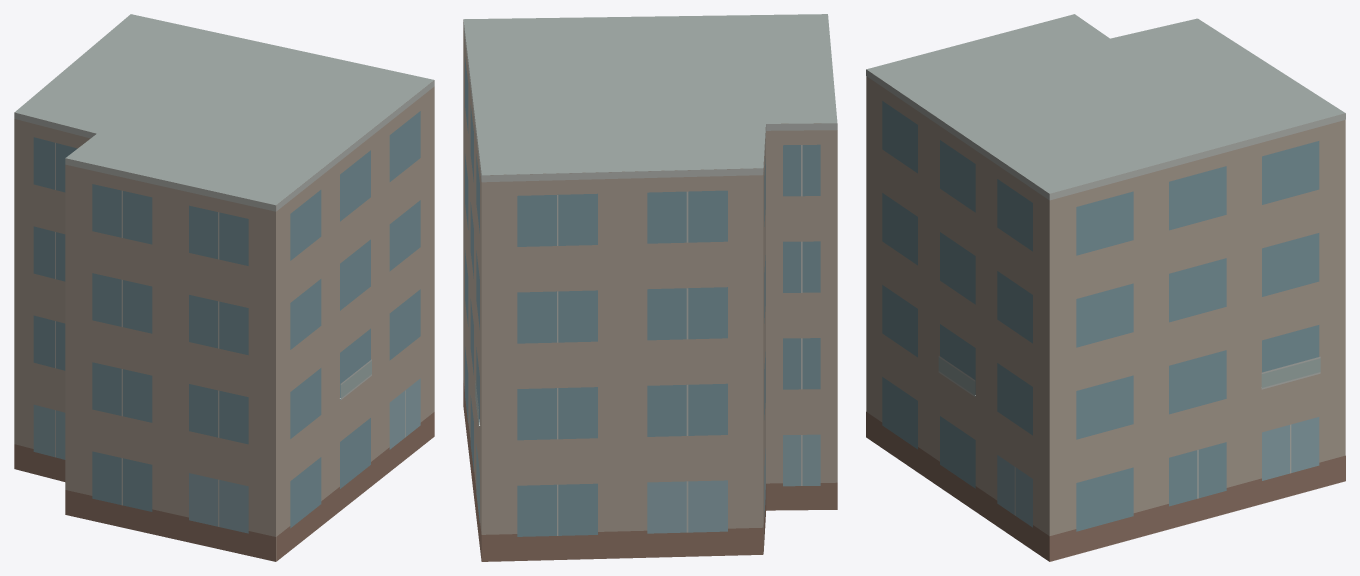
Rendered from survey-upis-32864730.glb.
3 views of the same model, side by side, from view 1: azimuth 30°, elevation 25°; view 2: azimuth 150°, elevation 25°; view 3: azimuth 270°, elevation 25° (orthographic). The views are drawn at different scales.
Visible parts, largest first — view 1: survey-upis-32864730.tmp; view 2: survey-upis-32864730.tmp; view 3: survey-upis-32864730.tmp.
Boxes of the visible parts, box(x1,y1,x2,y2) form: survey-upis-32864730.tmp: box(14, 14, 434, 561); survey-upis-32864730.tmp: box(463, 14, 837, 561); survey-upis-32864730.tmp: box(866, 14, 1345, 561).
Size of the model in its own units: 14.27 by 13.6 by 16.07.
